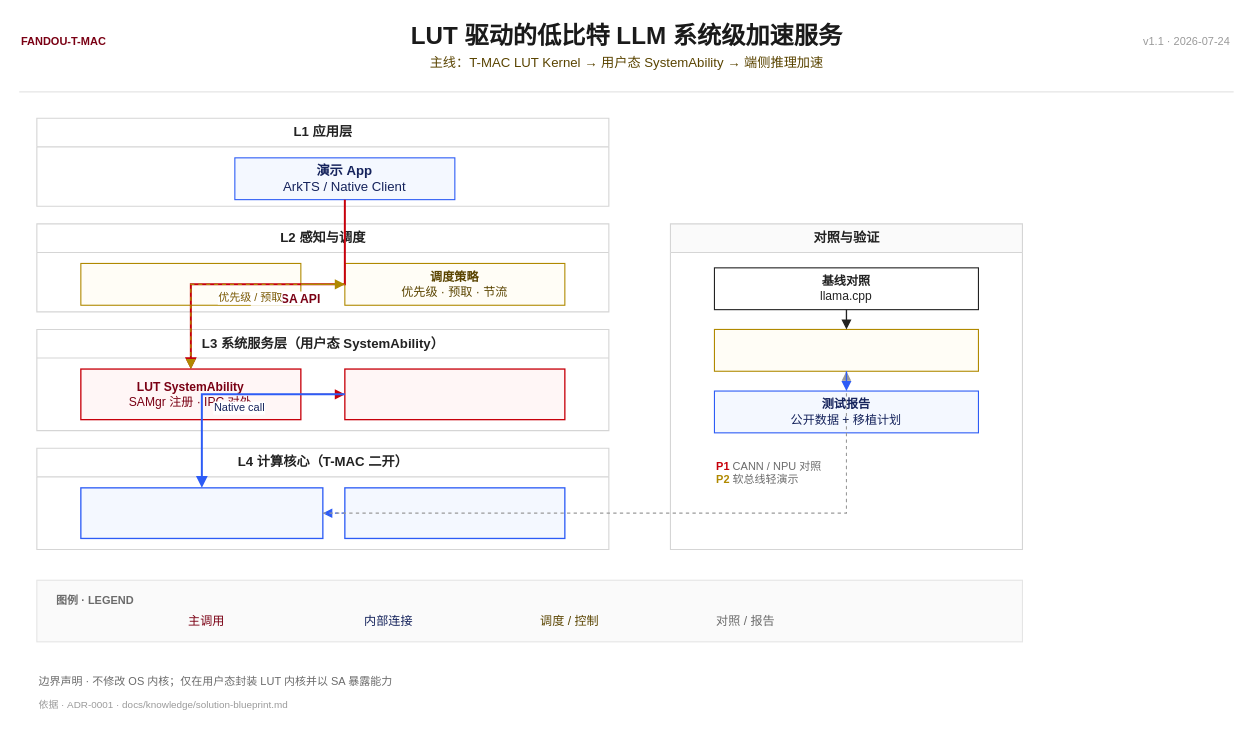
Image size: 1254x730. Some labels were removed from this diagram. Here are the shapes that lost their labels. From the top down, the centre of each, then its label:
At (190,283): "行为信号 通知 · 传感器 · 桌面状态".
At (845,349): "评测指标 TTFT · 吞吐 · 能耗".
At (454,394): "Native 加速库 NDK · 会话 · 缓冲".
At (201,513): "LUT Kernel 比特级查找表 · 低比特 mpGEMM".
At (454,513): "部署工具链 t-man · 权重 / LUT 生成".
